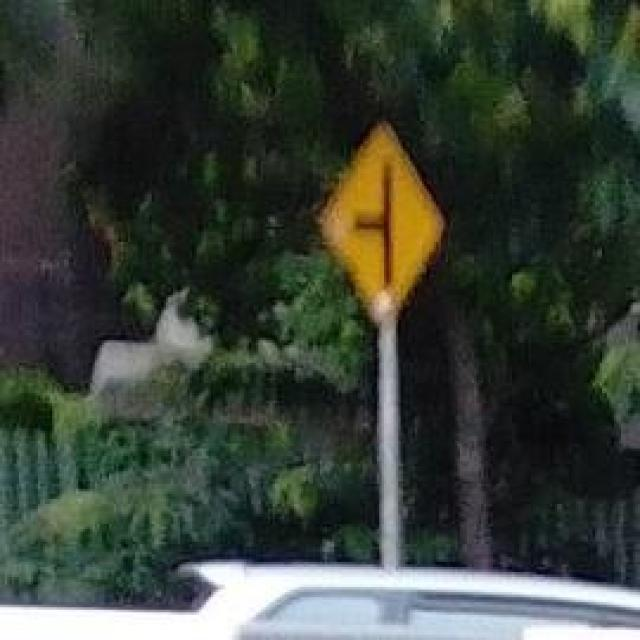traffic sign: (313, 129, 441, 313)
